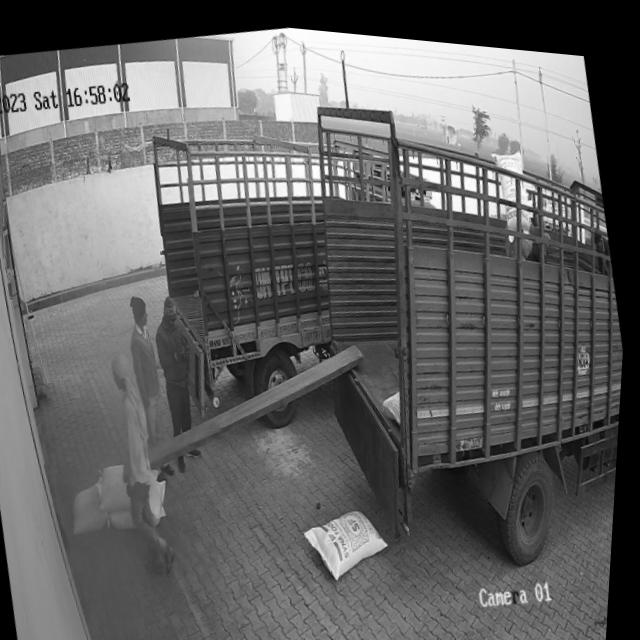sack: (303, 493, 401, 583), (106, 471, 181, 533), (99, 453, 170, 517), (69, 471, 122, 536)
